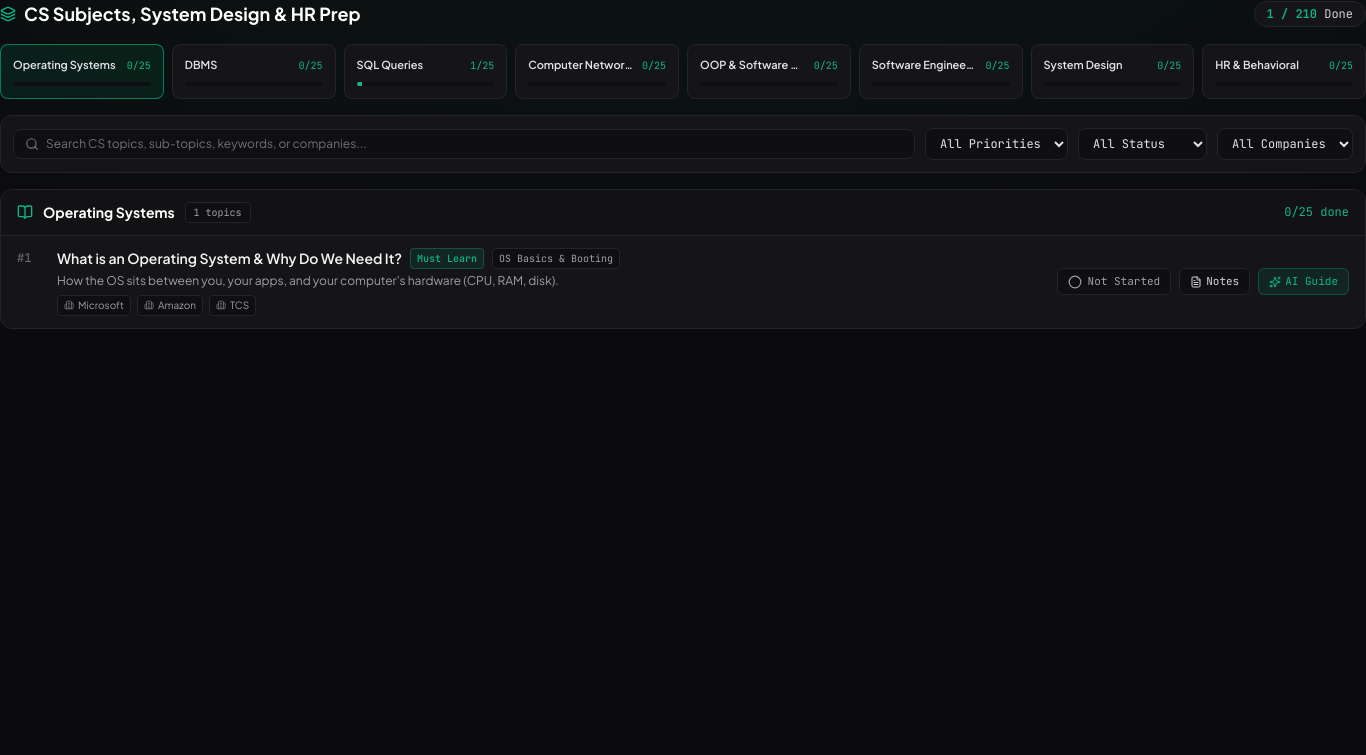
Test: CsFundamentalsPage › defaults to Operating Systems tab, switches cleanly between subject tabs, and opens AI Guide with SQL syntax highlighting
The width and height of the screenshot is (1366, 755).
Expected: the heading "CS Subjects, System Design & HR Prep" is shown, [24,0,361,28]
Expected: the text "1 / 210" is shown, [1267,6,1317,22]
Switch to SQL Queries tab
Step 1. Click the button "SQL Queries 1/25" → (425, 71), box [344,44,507,98]
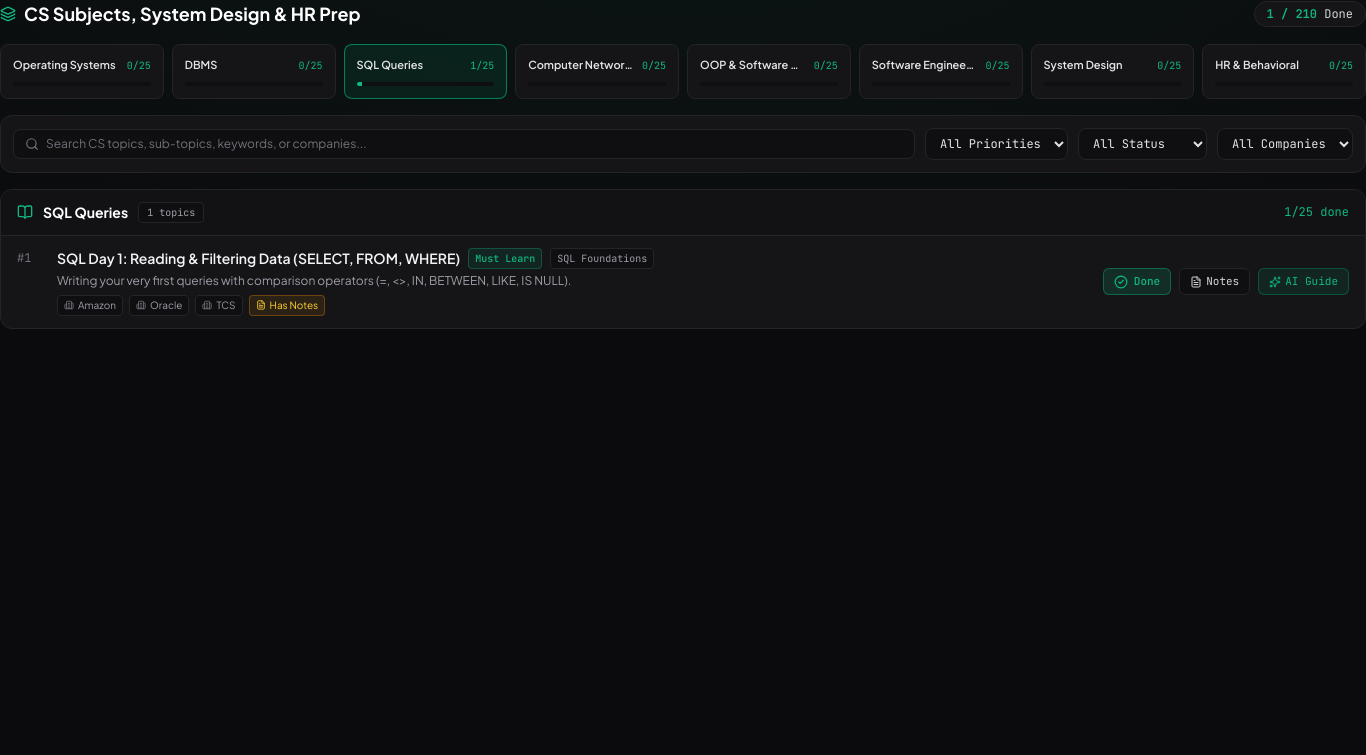
Expected: the text "SQL Day 1: Reading & Filtering Data (SELECT, FROM, WHERE)" is shown, [57,248,460,268]
Expected: the text "What is an Operating System & Why Do We Need It?" is gone
Click AI Guide on the SQL topic
Step 2. Click the button "AI Guide" → (1304, 282), box [1258,268,1349,295]
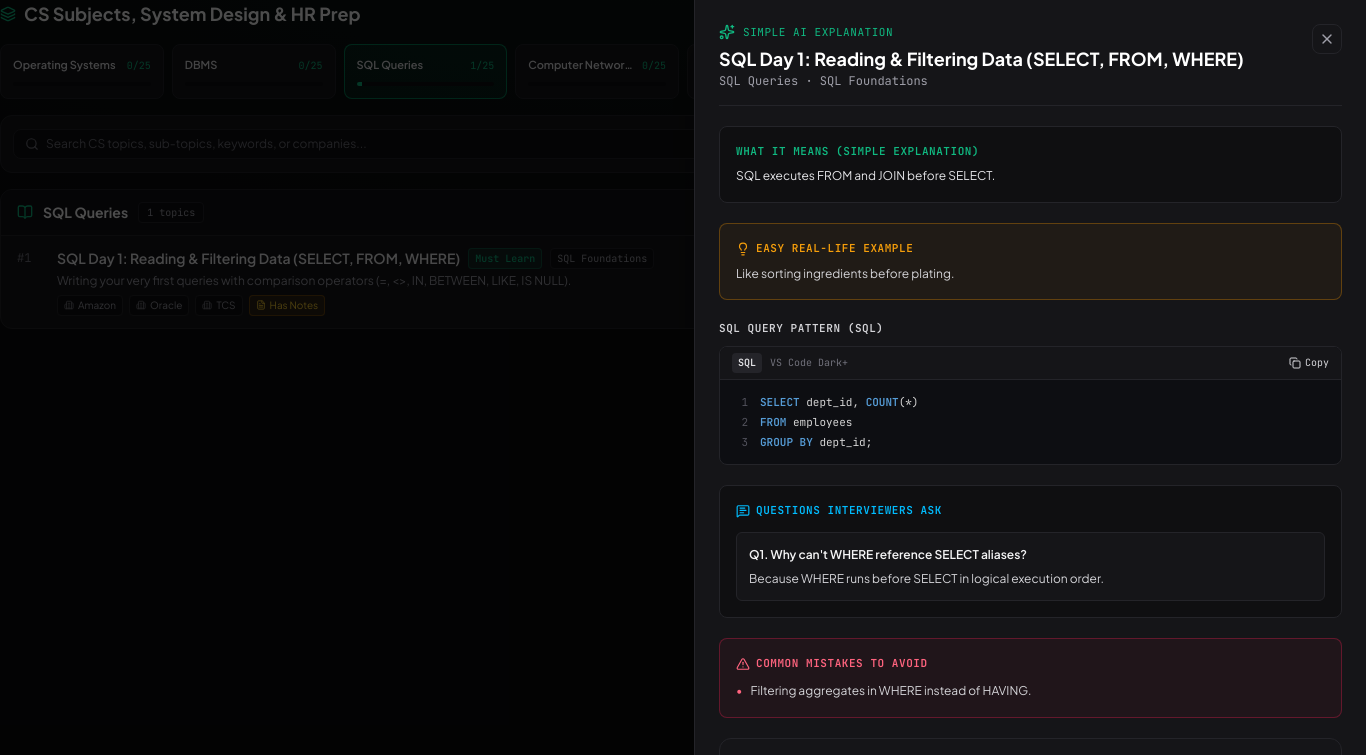
Expected: the text "Simple AI Explanation" is shown, [743,24,893,40]
Expected: the text "SQL executes FROM and JOIN before SELECT." is shown, [736,168,995,183]
Expected: the text "Q1. Why can't WHERE reference SELECT aliases?" is shown, [749,547,1027,562]
Close drawer, switch to Behavioral & HR tab, and open STAR AI Guide
Step 3. Click the button named "Close AI Guide" → (1327, 39), box [1312,24,1342,54]
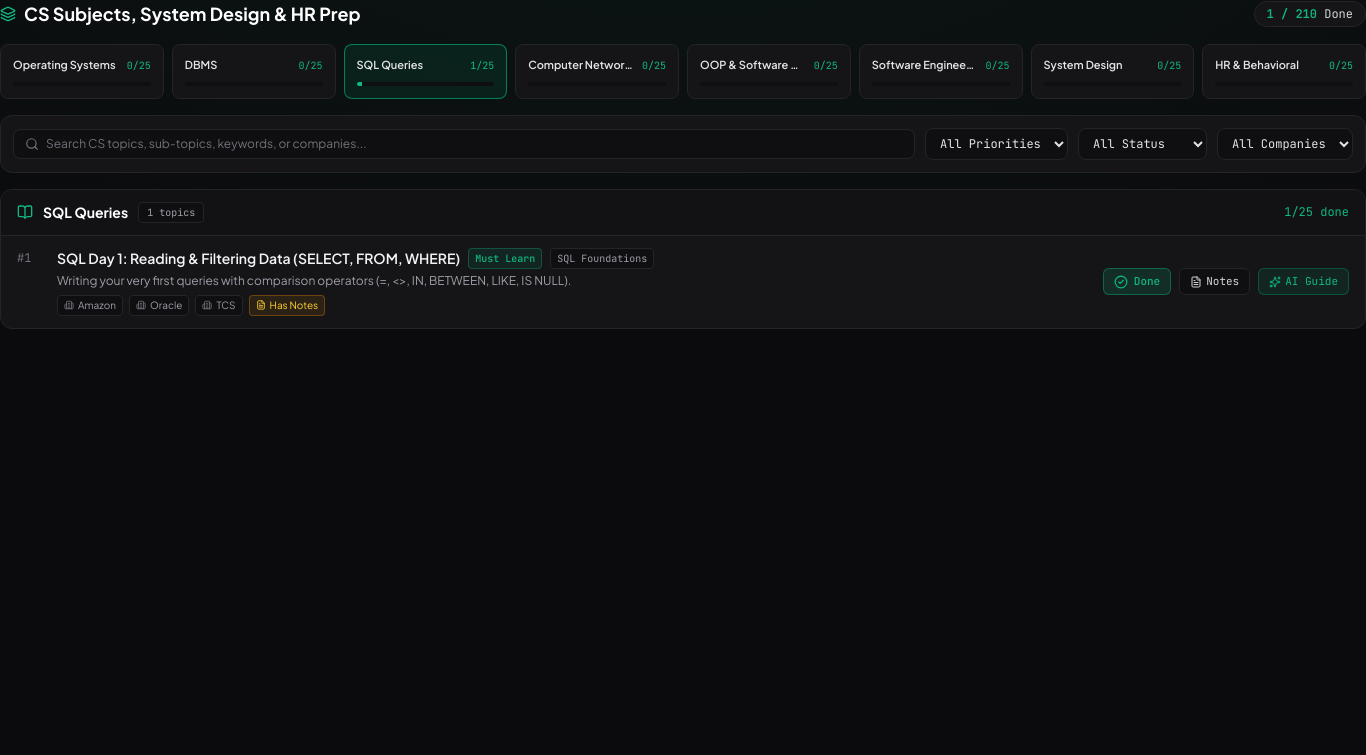
Step 4. Click the button "HR & Behavioral 0/25" → (1284, 71), box [1202,44,1365,98]
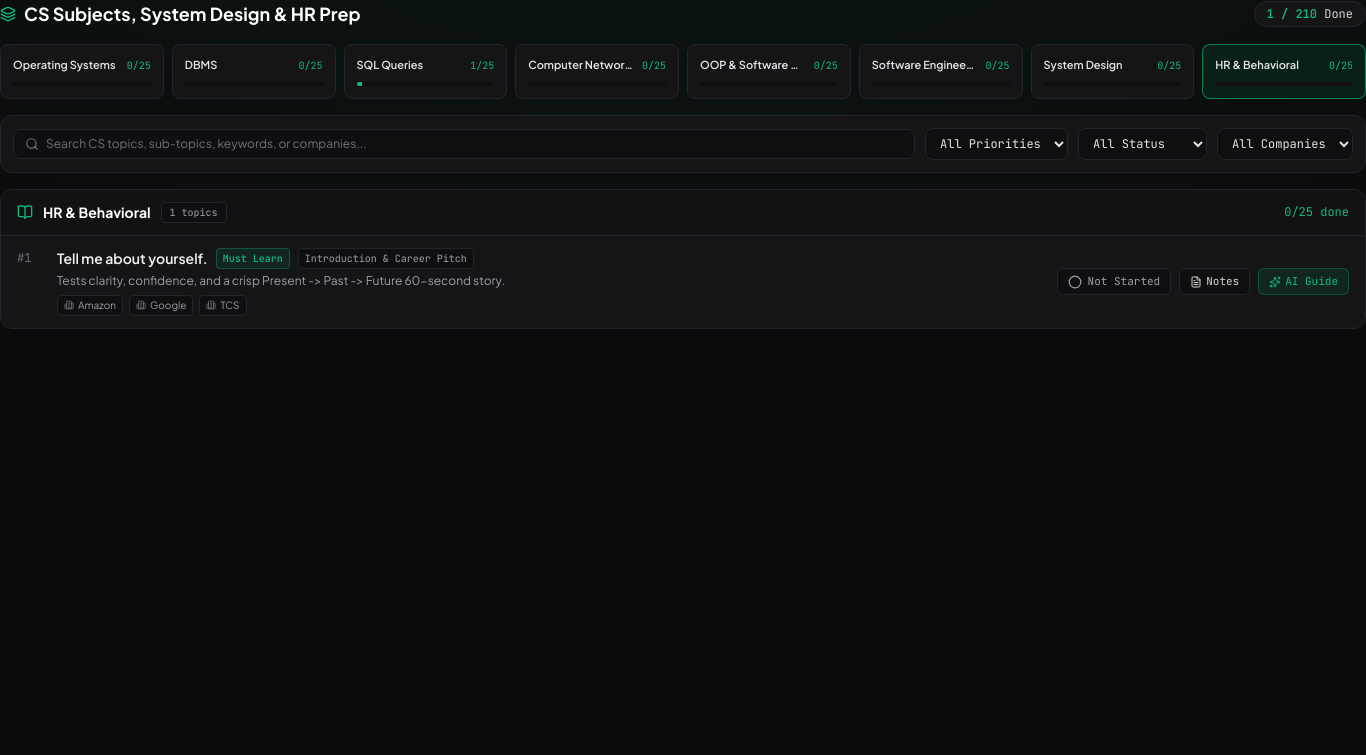
Expected: the text "Tell me about yourself." is shown, [57,248,208,268]
Step 5. Click the button "AI Guide" → (1304, 282), box [1258,268,1349,295]
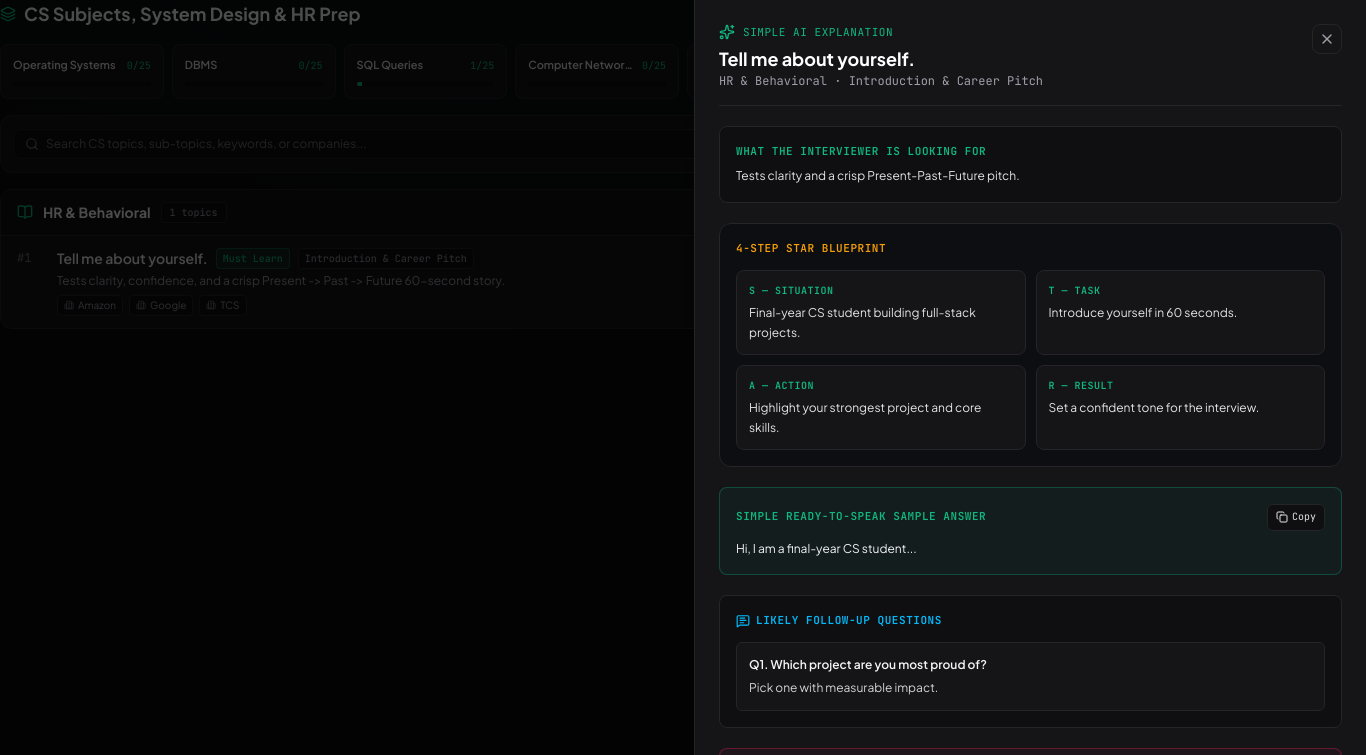
Expected: the heading "4-Step STAR Blueprint" is shown, [736,241,886,255]
Expected: the text "Hi, I am a final-year CS student..." is shown, [736,540,917,556]
